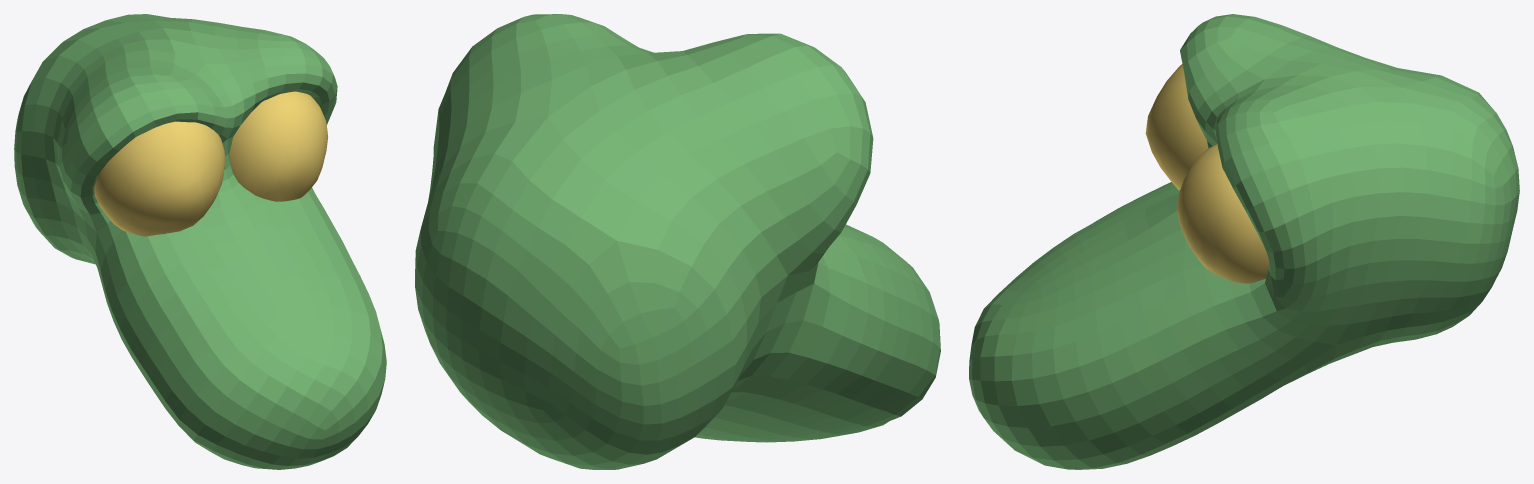
The model's file is SnakeHead2.fbx.
The picture shows the model from 3 angles, left to right: view 1: azimuth 30°, elevation 25°; view 2: azimuth 150°, elevation 25°; view 3: azimuth 270°, elevation 25°; orthographic projection. The views are drawn at different scales.
Visible parts, largest first — view 1: Retopo_Layer_2; view 2: Retopo_Layer_2; view 3: Retopo_Layer_2.
Boxes of the visible parts, x1,y1,x2,y2 form: Retopo_Layer_2: (14, 14, 386, 469); Retopo_Layer_2: (415, 14, 940, 469); Retopo_Layer_2: (969, 14, 1519, 469).
Bounding box in the file's own units: 104 × 123 × 157.
